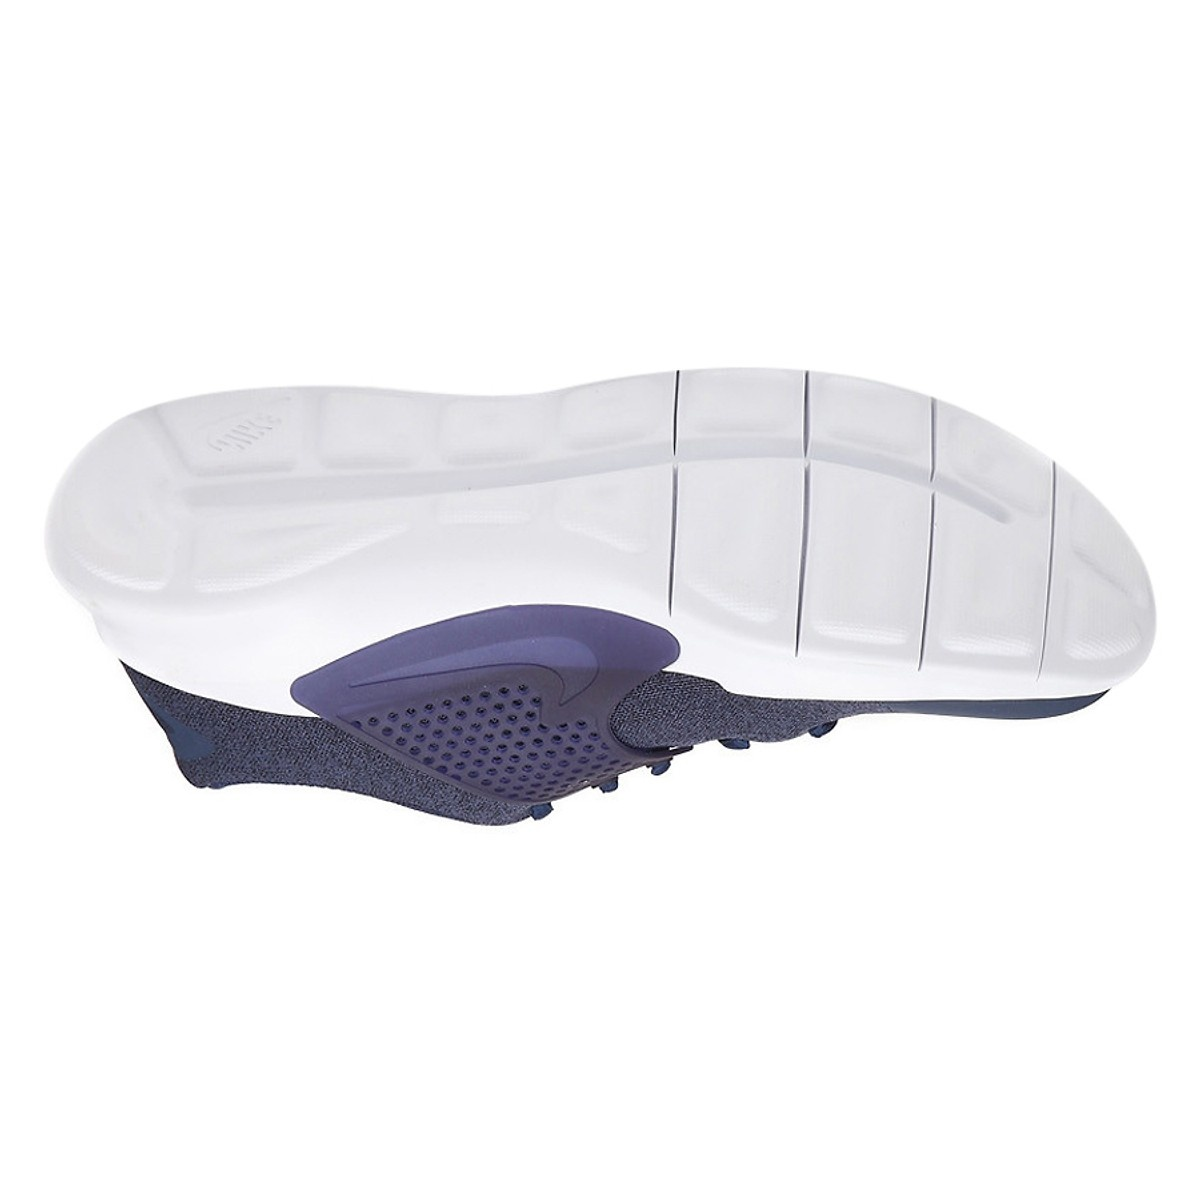Nike: (336, 548, 684, 749)
